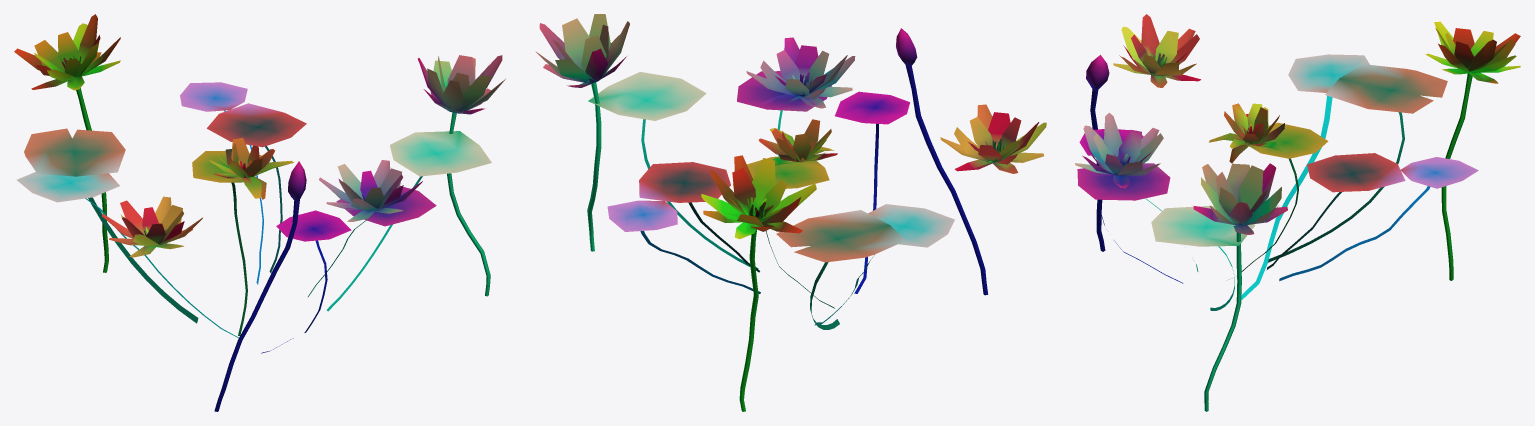
File: Rembrandt_Water_Lily_uc2kajgia_Mid_uc2kajgia_VarG_LOD0.fbx
The picture shows the model from 3 angles, left to right: view 1: azimuth 30°, elevation 25°; view 2: azimuth 150°, elevation 25°; view 3: azimuth 270°, elevation 25°; orthographic projection. The views are drawn at different scales.
Parts seen in each view (by area): view 1: _dd1a_VarG_LOD1; view 2: _dd1a_VarG_LOD1; view 3: _dd1a_VarG_LOD1.
Boxes of the visible parts, x1=… form: _dd1a_VarG_LOD1: x1=14, y1=14, x2=505, y2=411; _dd1a_VarG_LOD1: x1=535, y1=14, x2=1046, y2=411; _dd1a_VarG_LOD1: x1=1075, y1=14, x2=1520, y2=411.
Size of the model in its own units: 125 by 67.53 by 110.
